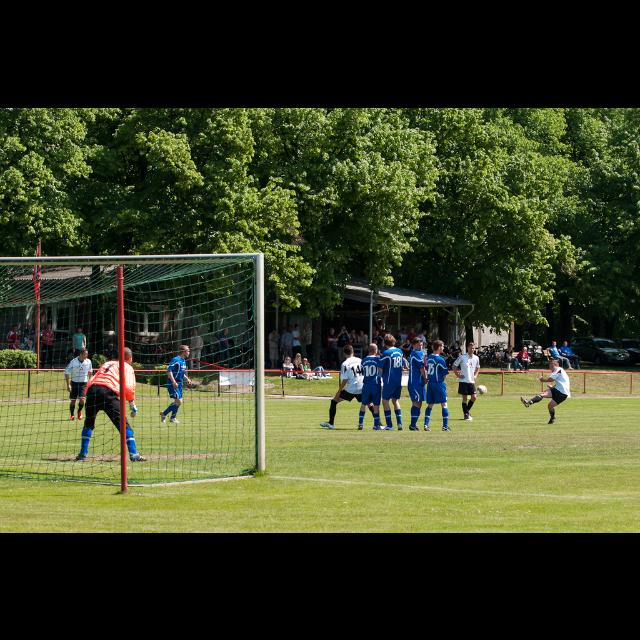Football: (474, 382, 486, 396)
